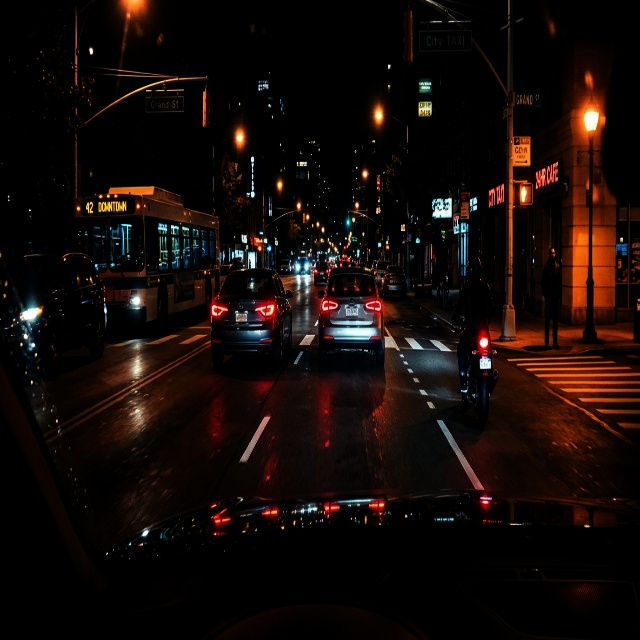bus: (74, 185, 219, 334)
car: (14, 251, 106, 372), (210, 266, 293, 371), (318, 298, 385, 368)
motorcycle: (457, 319, 498, 428)
person: (451, 254, 494, 393), (540, 250, 561, 349)
